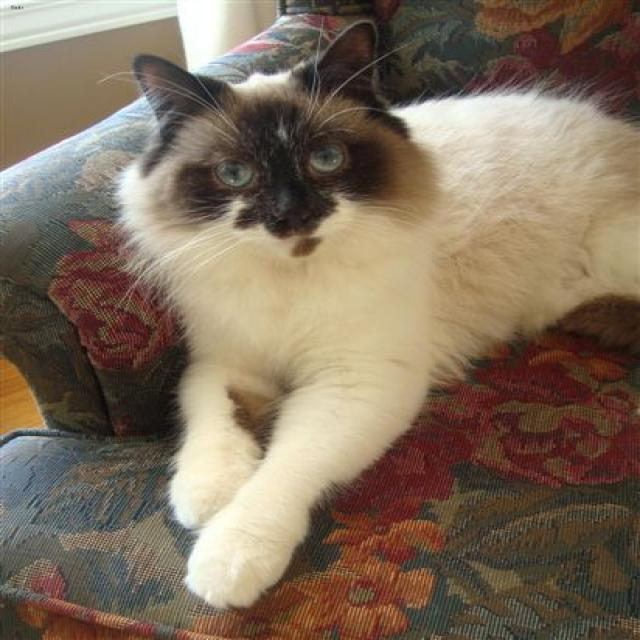Ragdoll: (130, 17, 404, 259)
